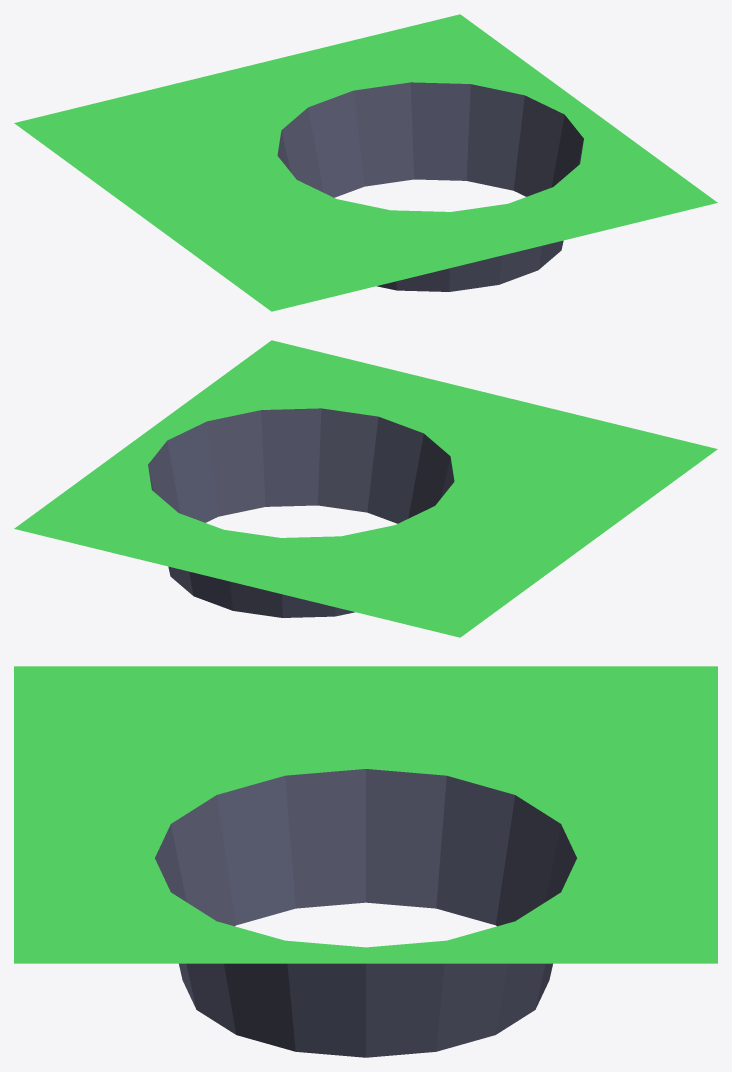
File: level_main.fbx
The picture shows the model from 3 angles, top to bottom: view 1: azimuth 30°, elevation 25°; view 2: azimuth 150°, elevation 25°; view 3: azimuth 270°, elevation 25°; orthographic projection. The views are drawn at different scales.
Parts seen in each view (by area): view 1: Plane; view 2: Plane; view 3: Plane.
Boxes of the visible parts, x1=… form: Plane: x1=14, y1=14, x2=717, y2=311; Plane: x1=14, y1=340, x2=717, y2=637; Plane: x1=14, y1=666, x2=717, y2=1057.
Bounding box in the file's own units: 5000 × 951 × 5000.
